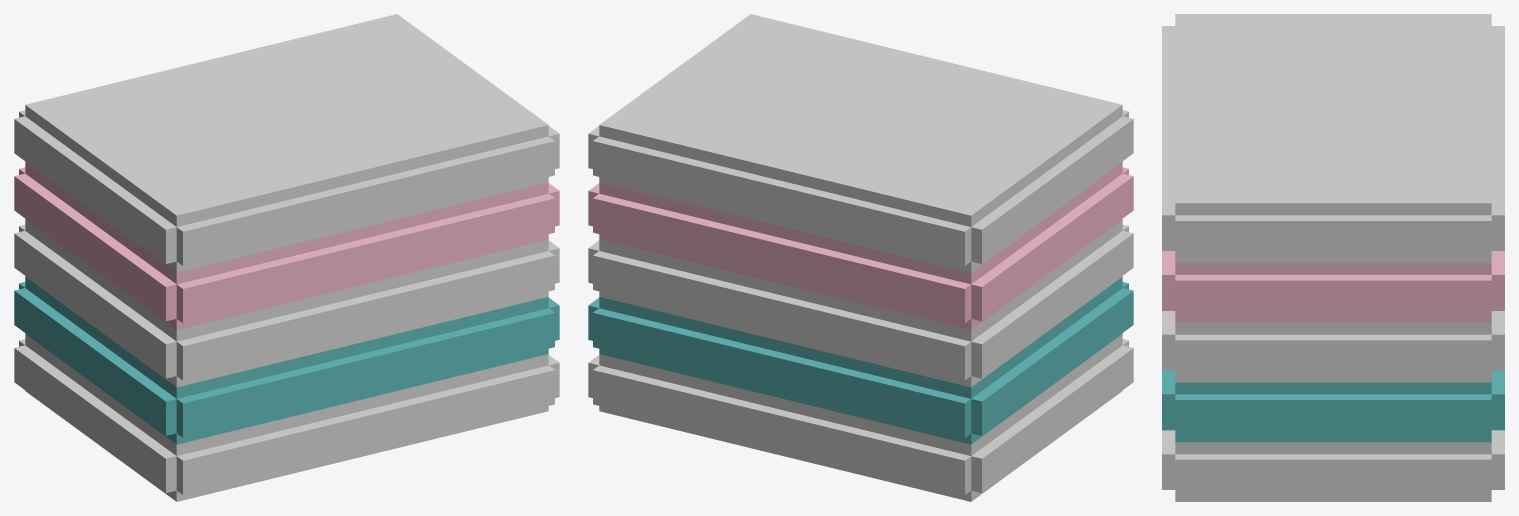
File: towel_stack.glb
The picture shows the model from 3 angles, left to right: view 1: azimuth 30°, elevation 25°; view 2: azimuth 150°, elevation 25°; view 3: azimuth 270°, elevation 25°; orthographic projection. The views are drawn at different scales.
Visible parts, largest first — view 1: towel_stack; view 2: towel_stack; view 3: towel_stack.
Part boxes in pixels (<box>): towel_stack: <box>14,14,559,501</box>; towel_stack: <box>588,14,1133,501</box>; towel_stack: <box>1162,14,1504,501</box>.
Bounding box in the file's own units: 0.36 × 0.25 × 0.26.
